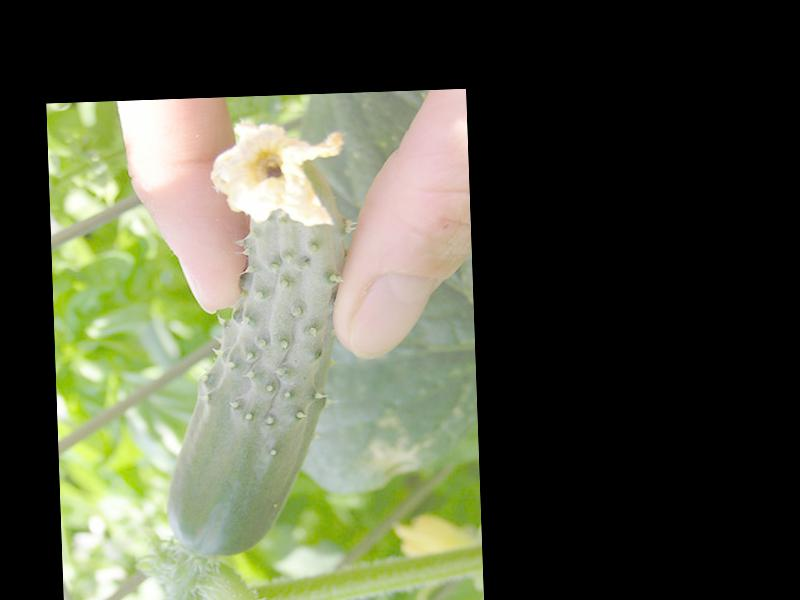Cucumber: (155, 120, 357, 559)
